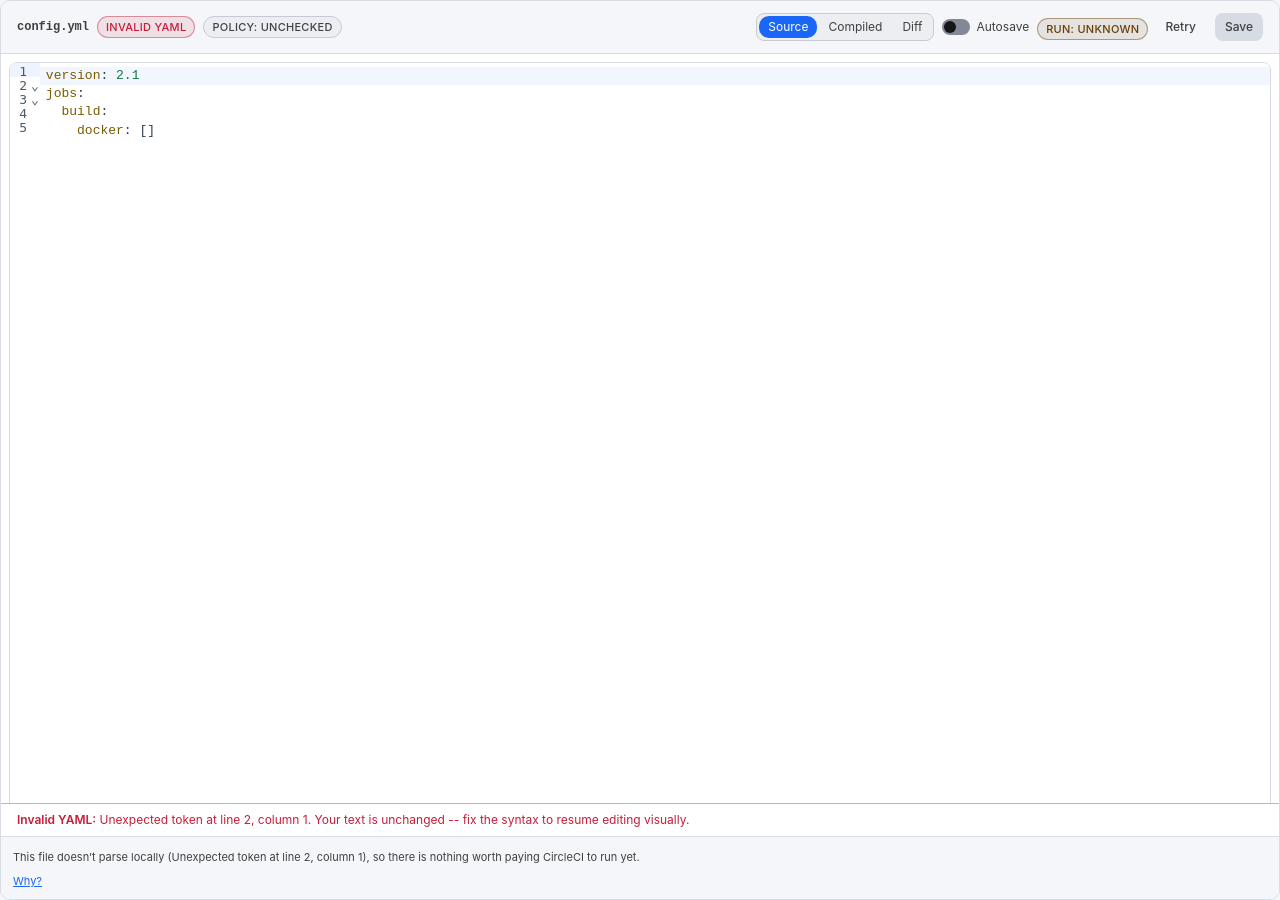
it: YamlPane › never lets a local YAML parse error be mistaken for a compiler-side problem
The width and height of the screenshot is (1280, 900).
Click the button "Compiled" at (856, 27), box [820,16,892,38]
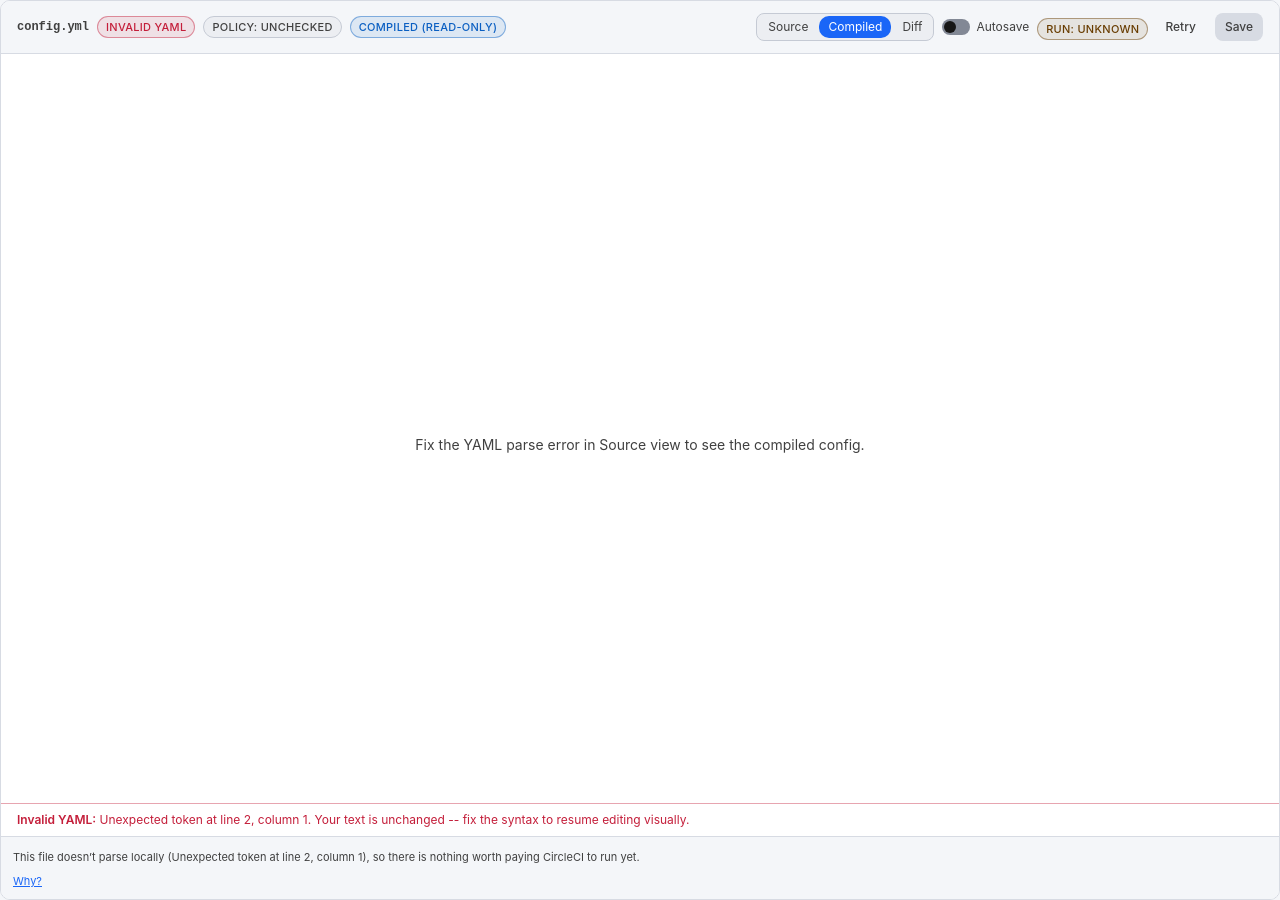
Expected: the text "Fix the YAML parse error in Source view" is shown, [415,436,865,453]
